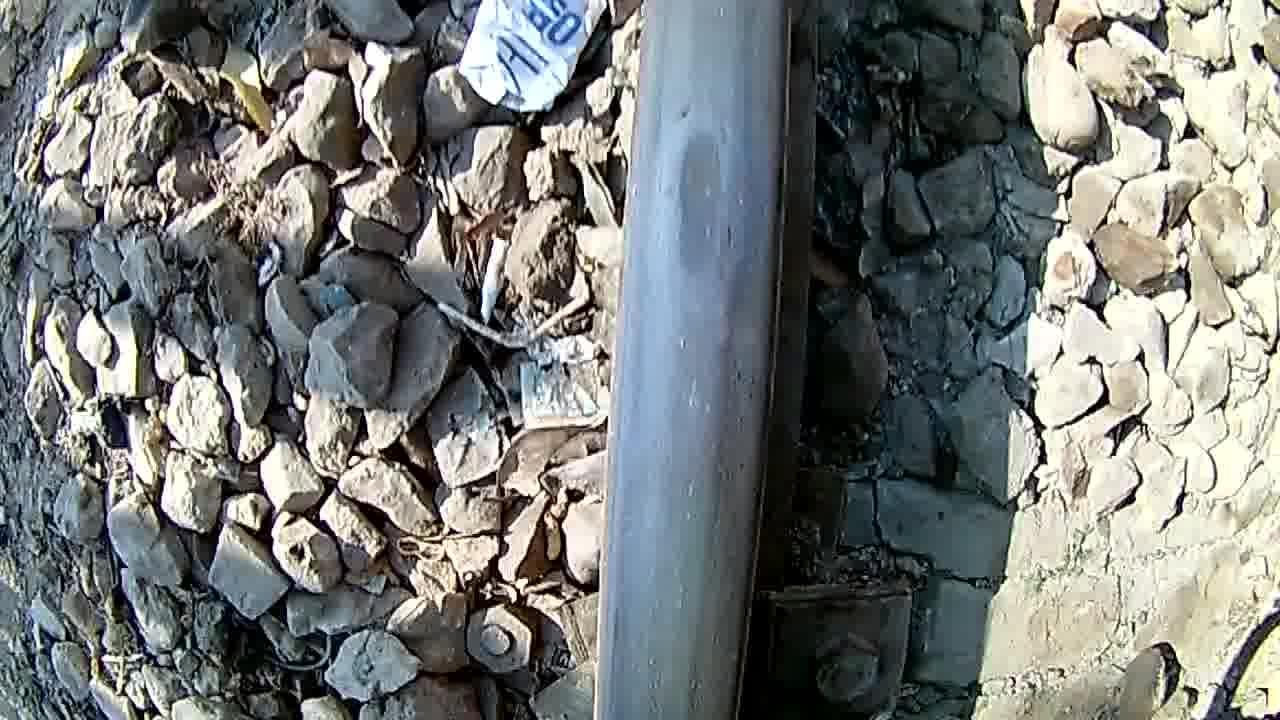crack: (614, 12, 786, 720)
